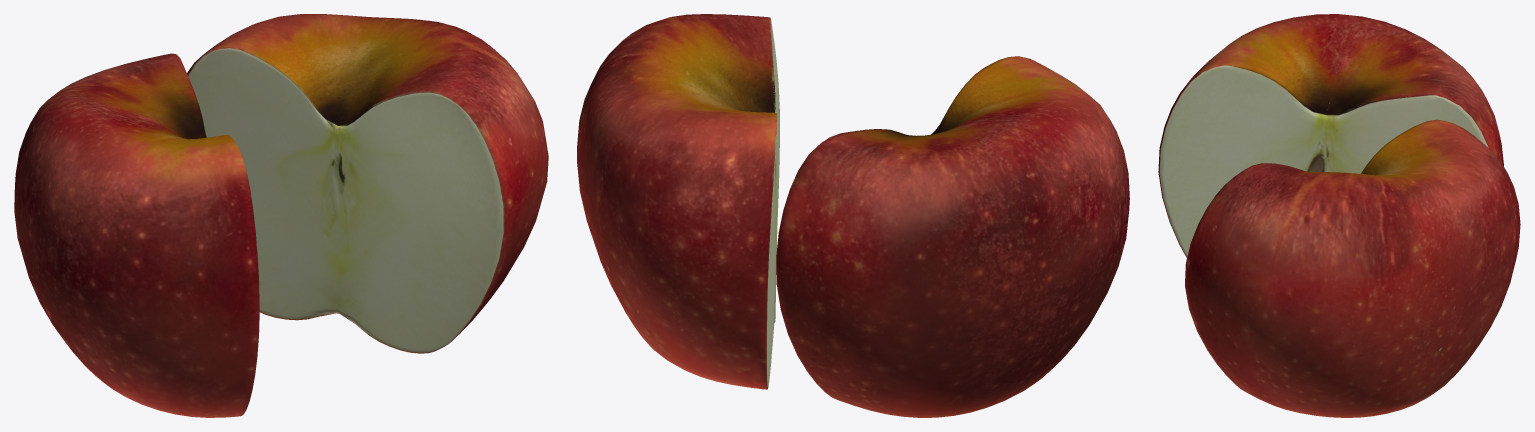
File: AppleSlice.glb
3 renders of one model, left to right at view 1: azimuth 30°, elevation 25°; view 2: azimuth 150°, elevation 25°; view 3: azimuth 270°, elevation 25°, orthographic. The views are drawn at different scales.
Visible parts, largest first — view 1: cutted apple v02, cutted apple v01; view 2: cutted apple v01, cutted apple v02; view 3: cutted apple v02, cutted apple v01.
Boxes of the visible parts, left/top/right/bottom form: cutted apple v02: left=187, top=14, right=548, bottom=353; cutted apple v01: left=14, top=53, right=259, bottom=417; cutted apple v01: left=776, top=56, right=1129, bottom=417; cutted apple v02: left=577, top=14, right=779, bottom=389; cutted apple v02: left=1185, top=119, right=1520, bottom=417; cutted apple v01: left=1158, top=14, right=1503, bottom=257.
Bounding box in the file's own units: 0.1087 × 0.0598 × 0.0773.
2 materials, 2 textured.
